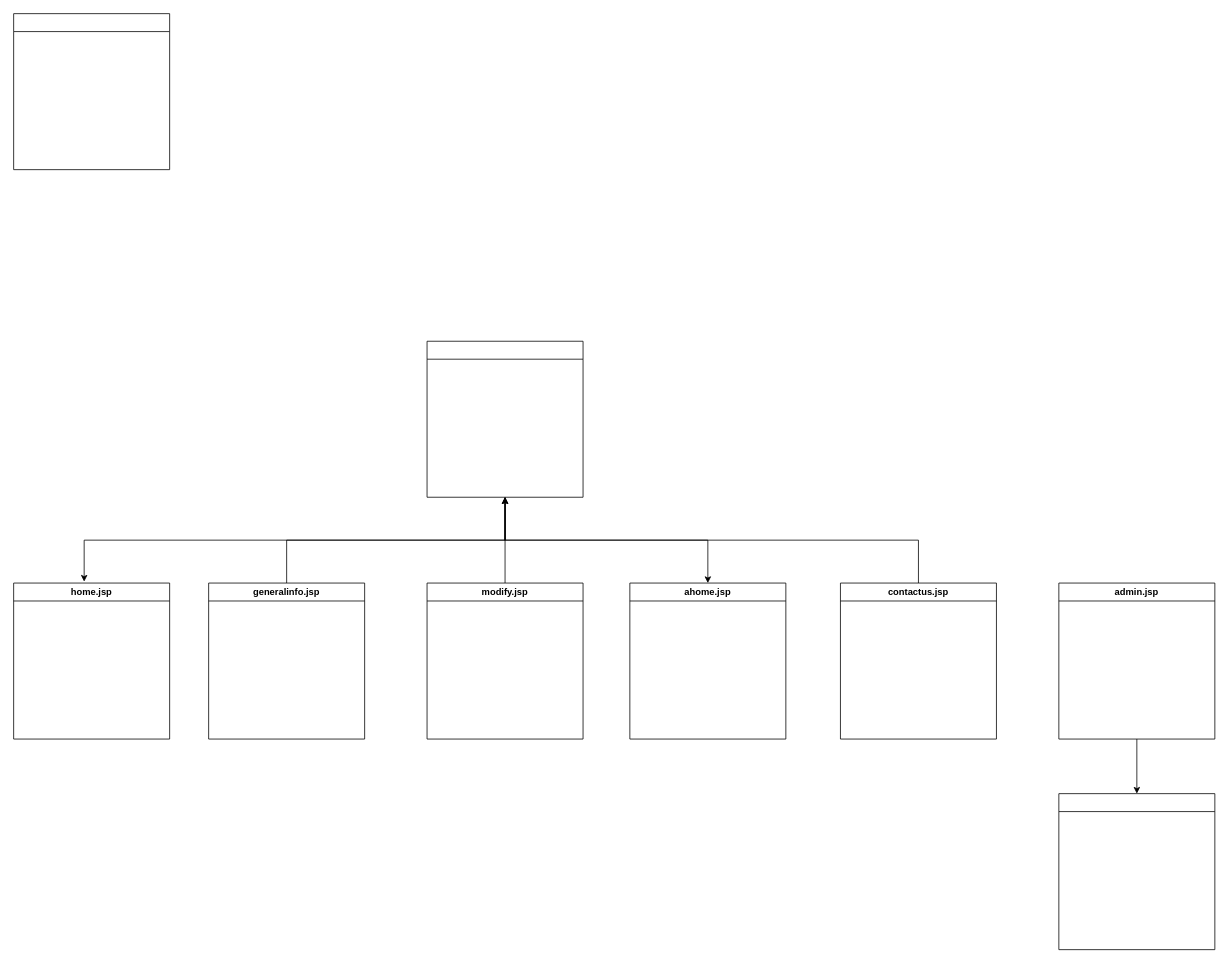
Some shapes in this 1229 by 963 pixel diagram are drawn without their labels. Here are the shapes that lost their labels. From the top down, the centre of each, then its label:
At (x=91, y=91): "index.jsp".
At (x=504, y=418): "header.jsp".
At (x=1136, y=871): "loginprocess.jsp".
